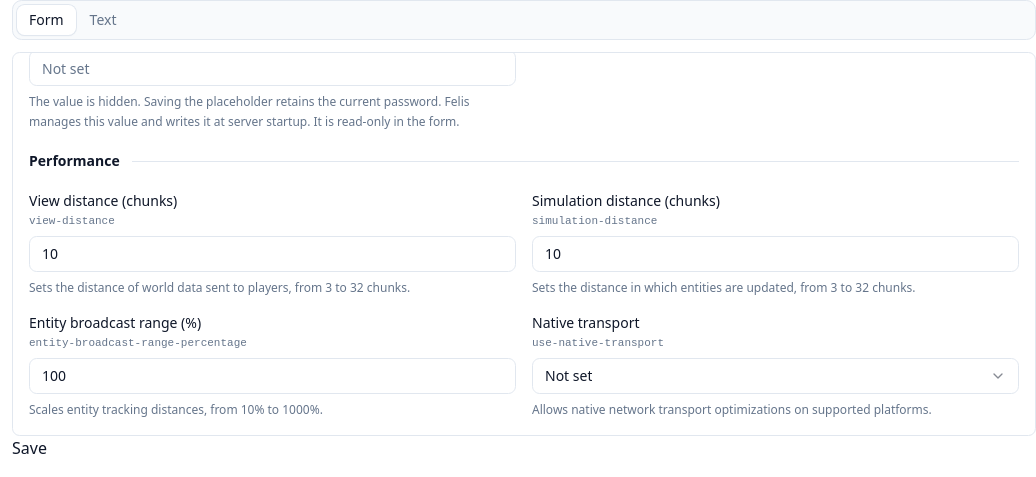
it: server.properties form › blocks invalid view_distance=2 and accepts 3
(page scrolled)
Replace the text in the field labelled "View distance (chunks)" with "2" at [272, 254], box [29, 236, 516, 272]
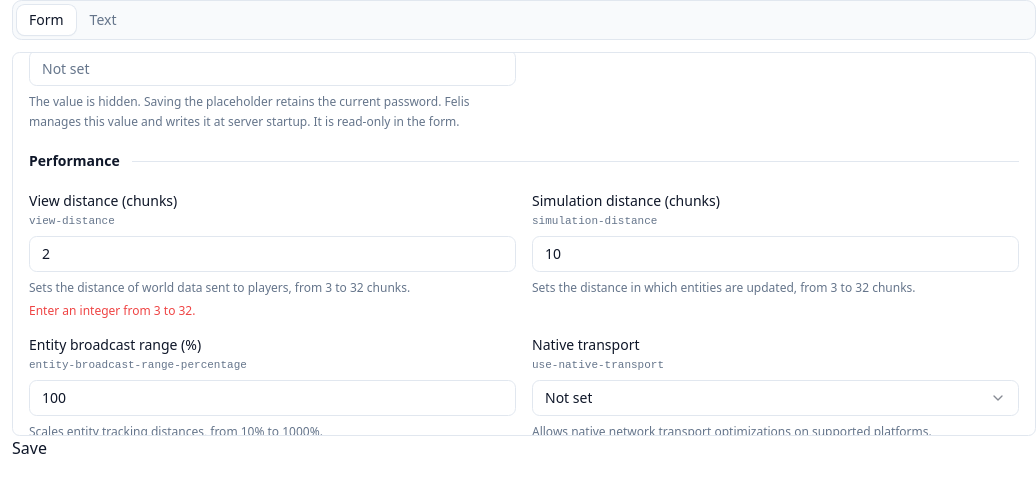
Expected: the button "Save" is disabled, [12, 436, 47, 460]
Result: the field labelled "View distance (chunks)" is marked as invalid
Press s in the field labelled "View distance (chunks)", box [29, 236, 516, 272]
Replace the text in the field labelled "View distance (chunks)" with "3" at [272, 254], box [29, 236, 516, 272]
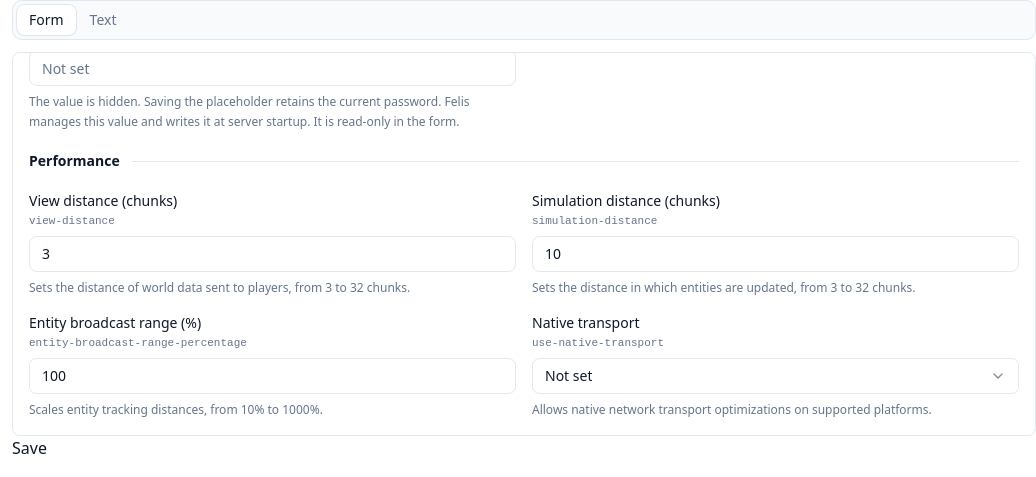
Expected: the button "Save" is enabled, [12, 436, 47, 460]
Result: the message "Enter an integer from 3 to 32." is gone
